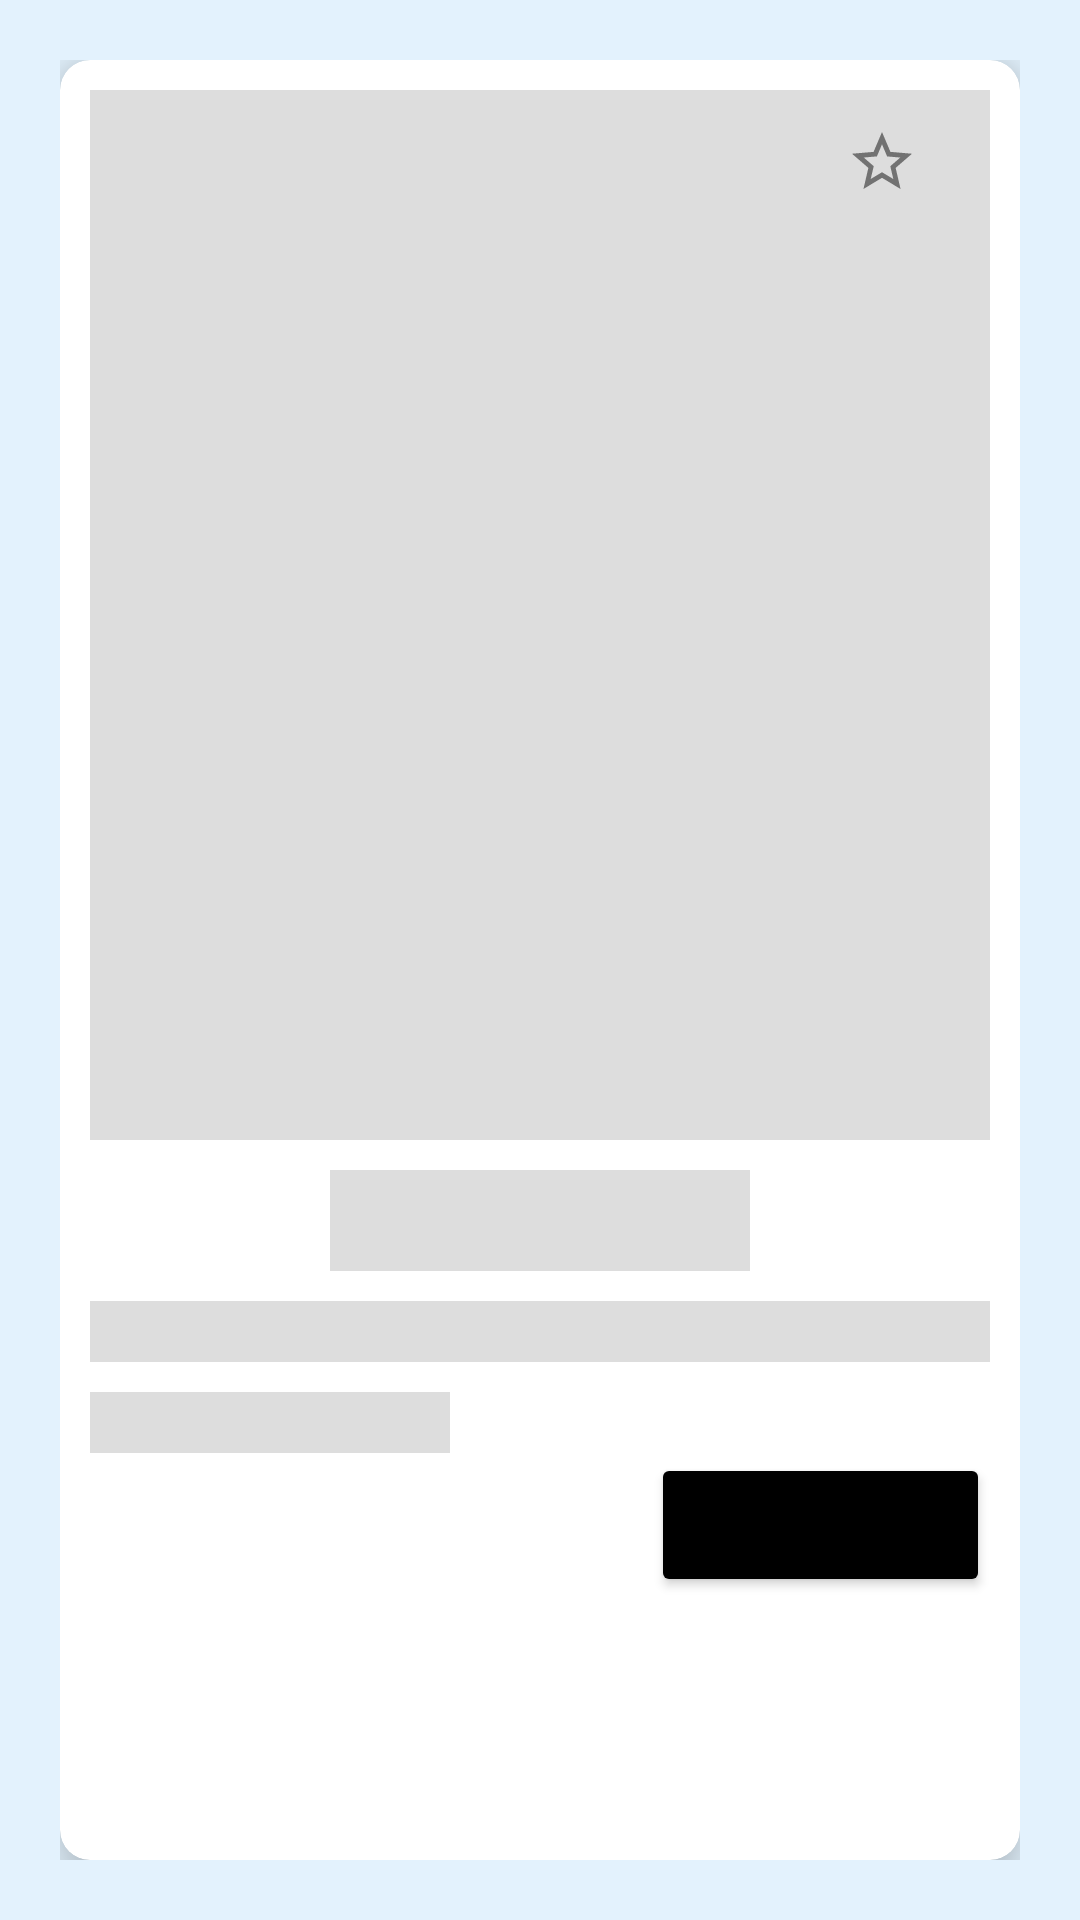

Locate icon controls on the screen. Image size 1080 × 1920, boxes as bbox=[x1, y1, x2, y2].
wish list item: bbox=[853, 133, 911, 189]
